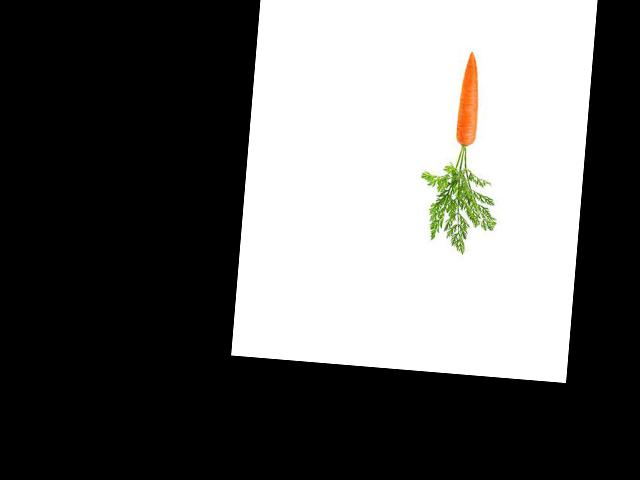carrot: (449, 46, 486, 152)
